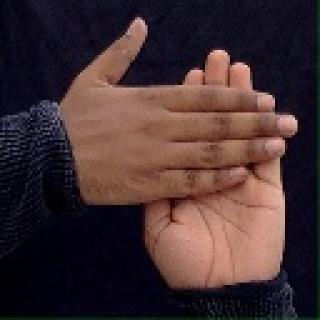H: (52, 10, 296, 284)
